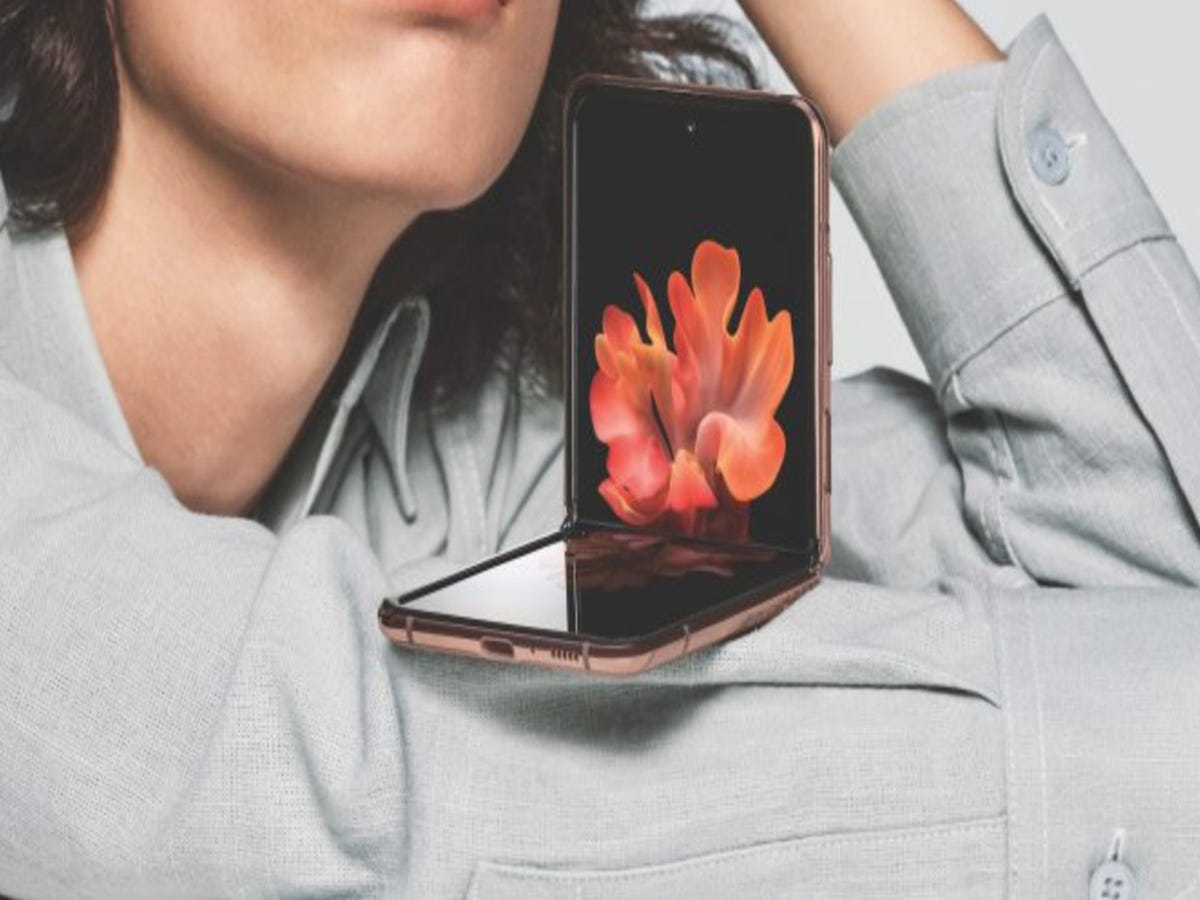phones: (338, 60, 920, 723)
